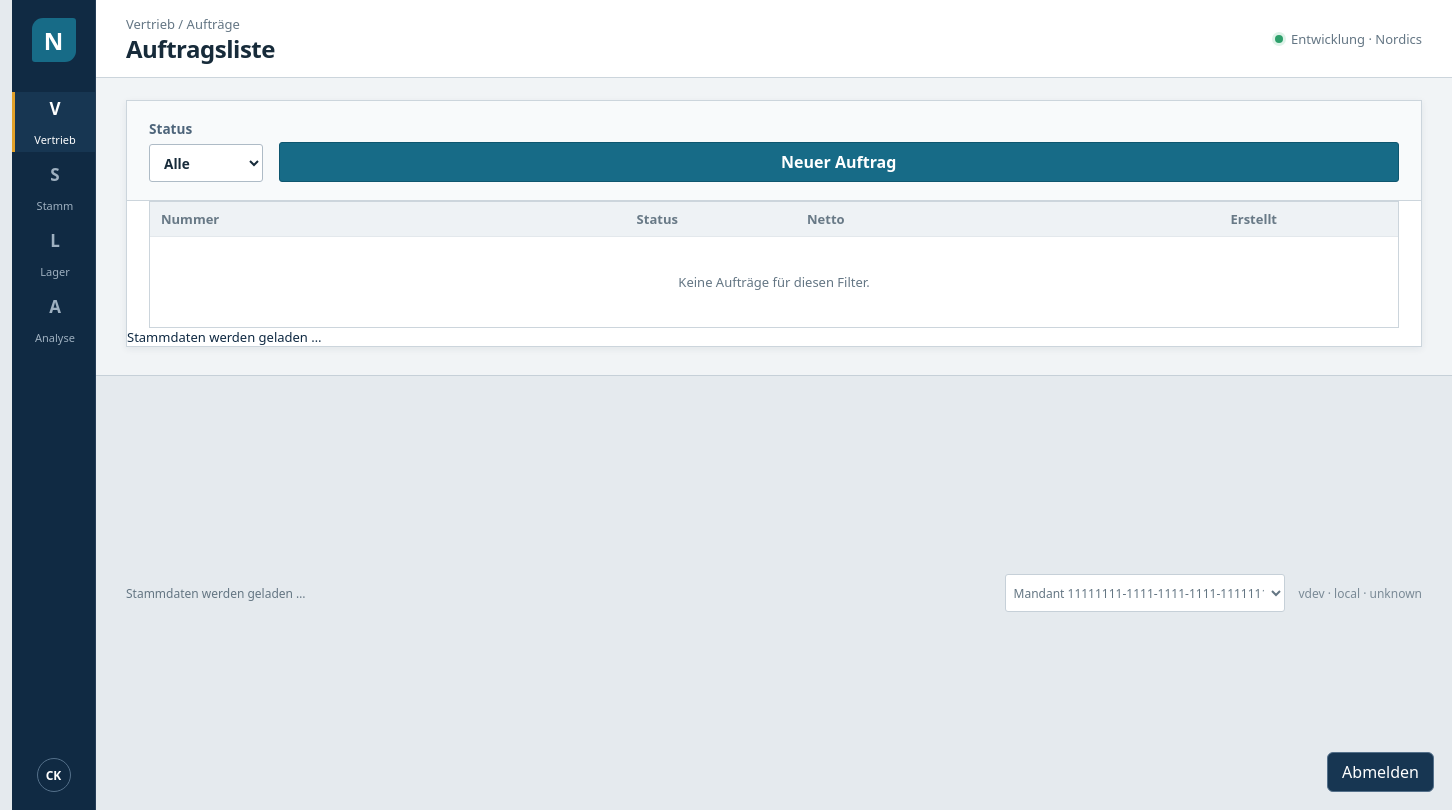
Test: does not reopen the previous Mandant Stamm document after a switch
The image size is (1452, 810).
Expected: the heading "Auftragsliste" is shown, [126,36,275,62]
Step 1. Click the button titled "Stammdaten" → (54, 188), box [12,158,95,218]
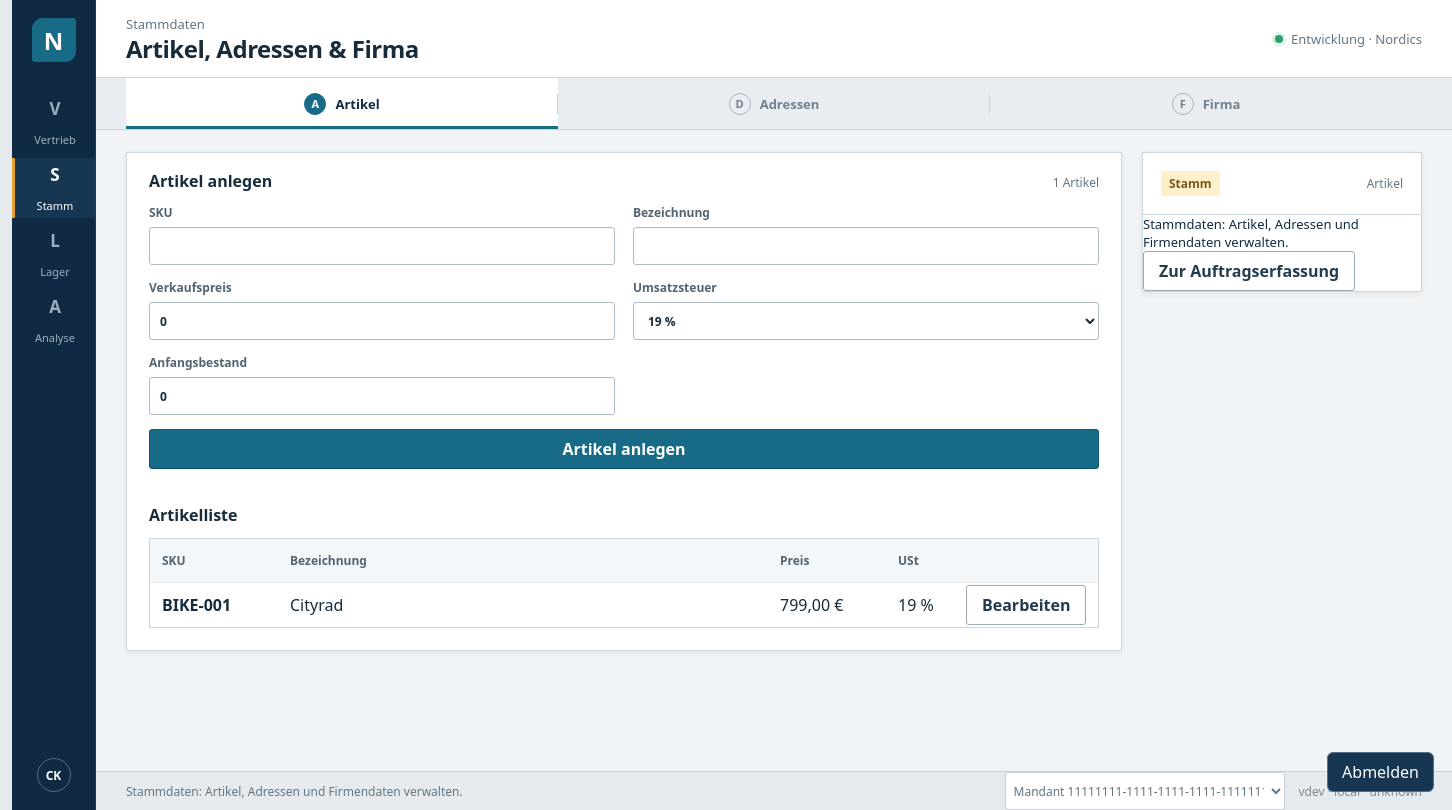
Now the heading "Artikel anlegen" is shown, box [149,170,272,192]
Step 2. Click the button "Bearbeiten" → (1026, 605), box [966,585,1086,625]
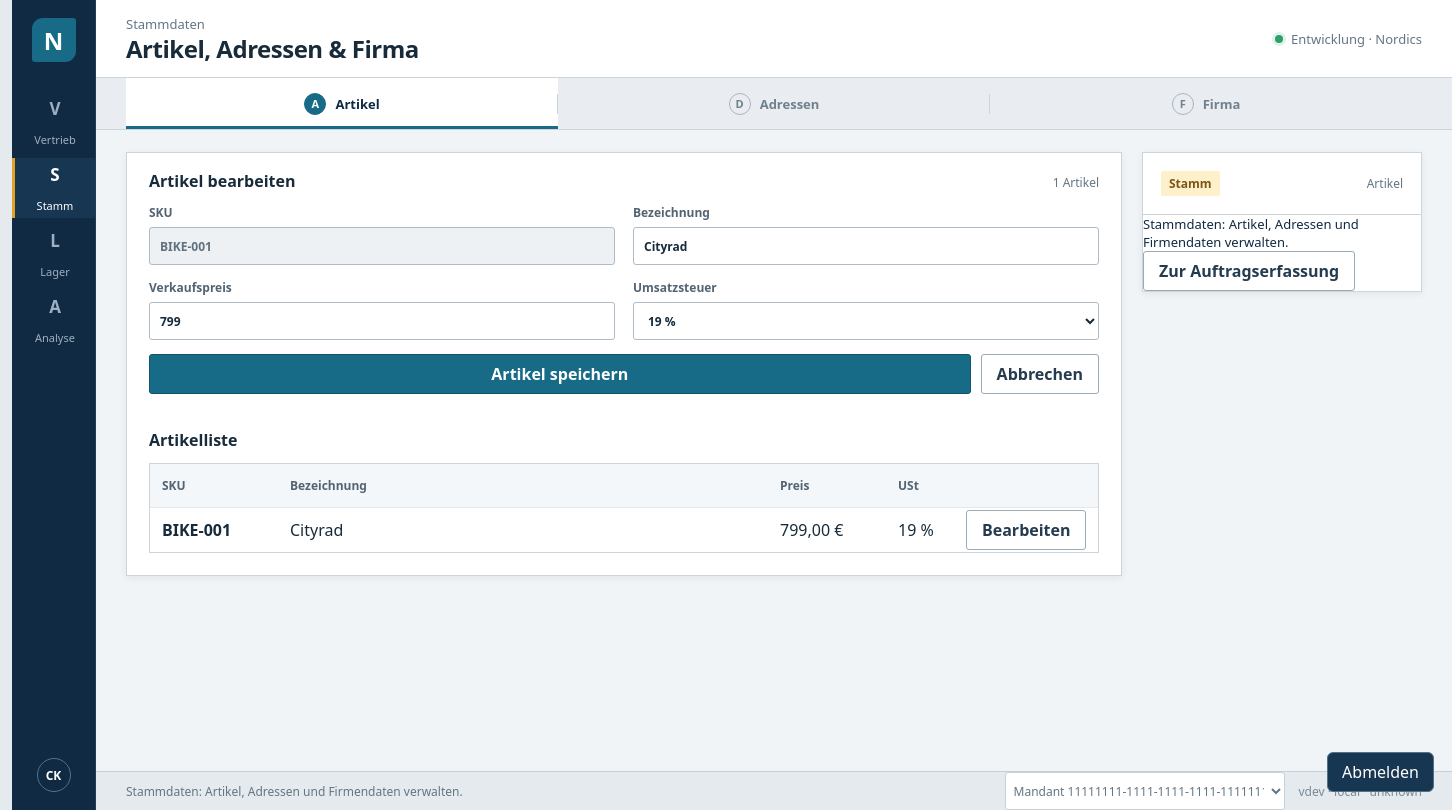
Now the heading "Artikel bearbeiten" is shown, box [149,170,295,192]
Step 3. Click the button titled "Vertrieb" → (54, 122), box [12,92,95,152]
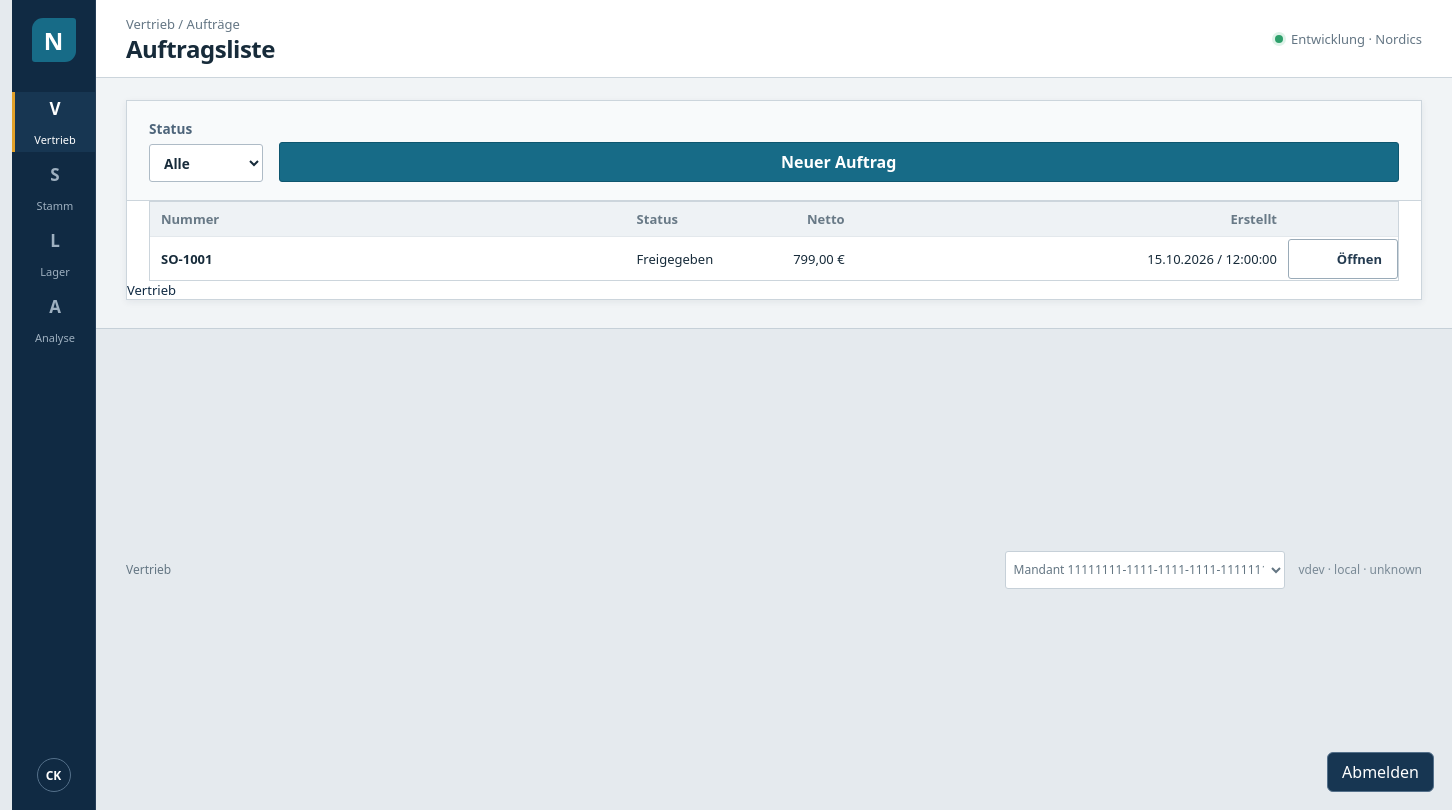
Now the heading "Auftragsliste" is shown, box [126,36,275,62]
Step 4. Select "Mandant 22222222-2222-2222-2222-222222222222" in the dropdown named "Mandant wechseln" → (1144, 570), box [1004,551,1284,589]
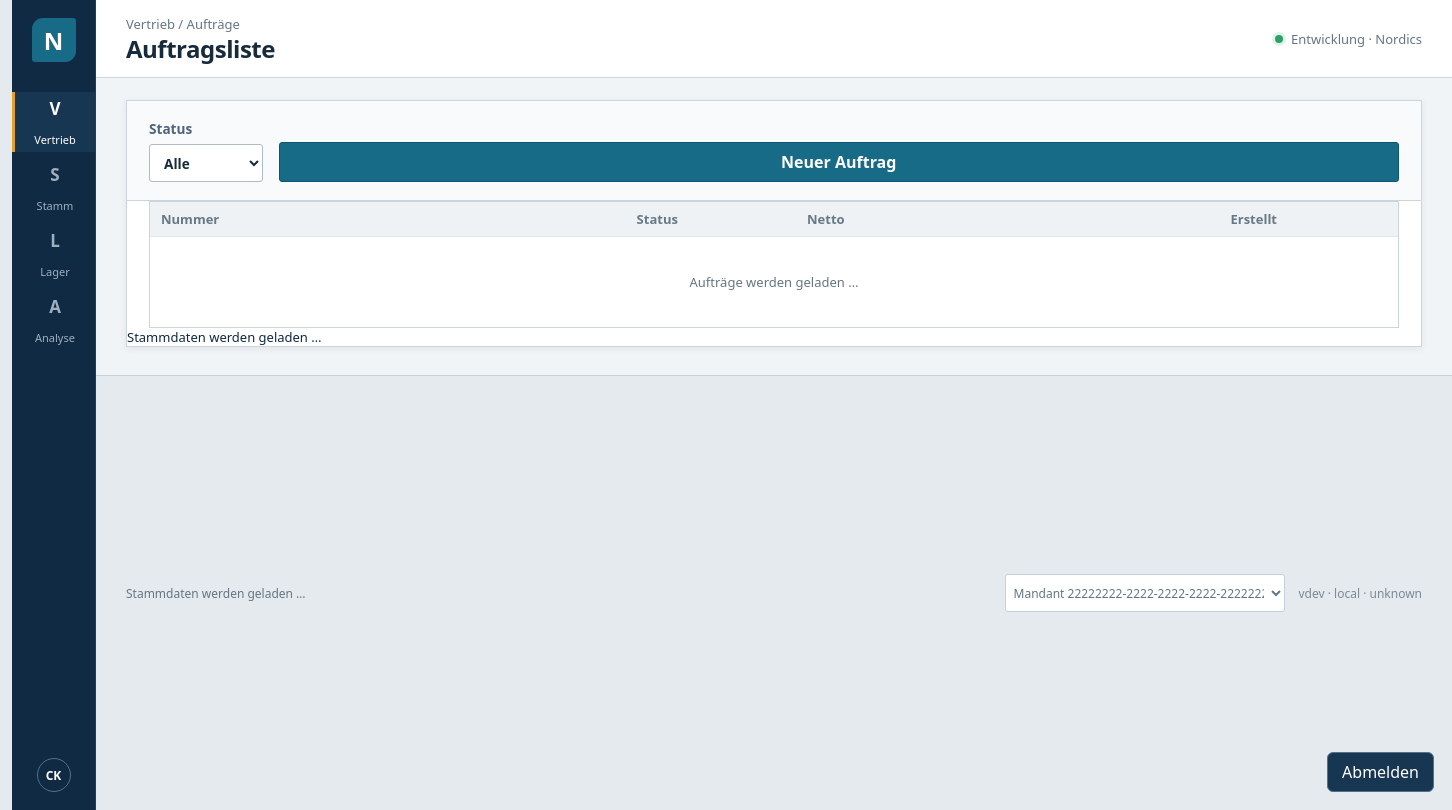
Step 5. Click the button titled "Stammdaten" → (54, 188), box [12,158,95,218]
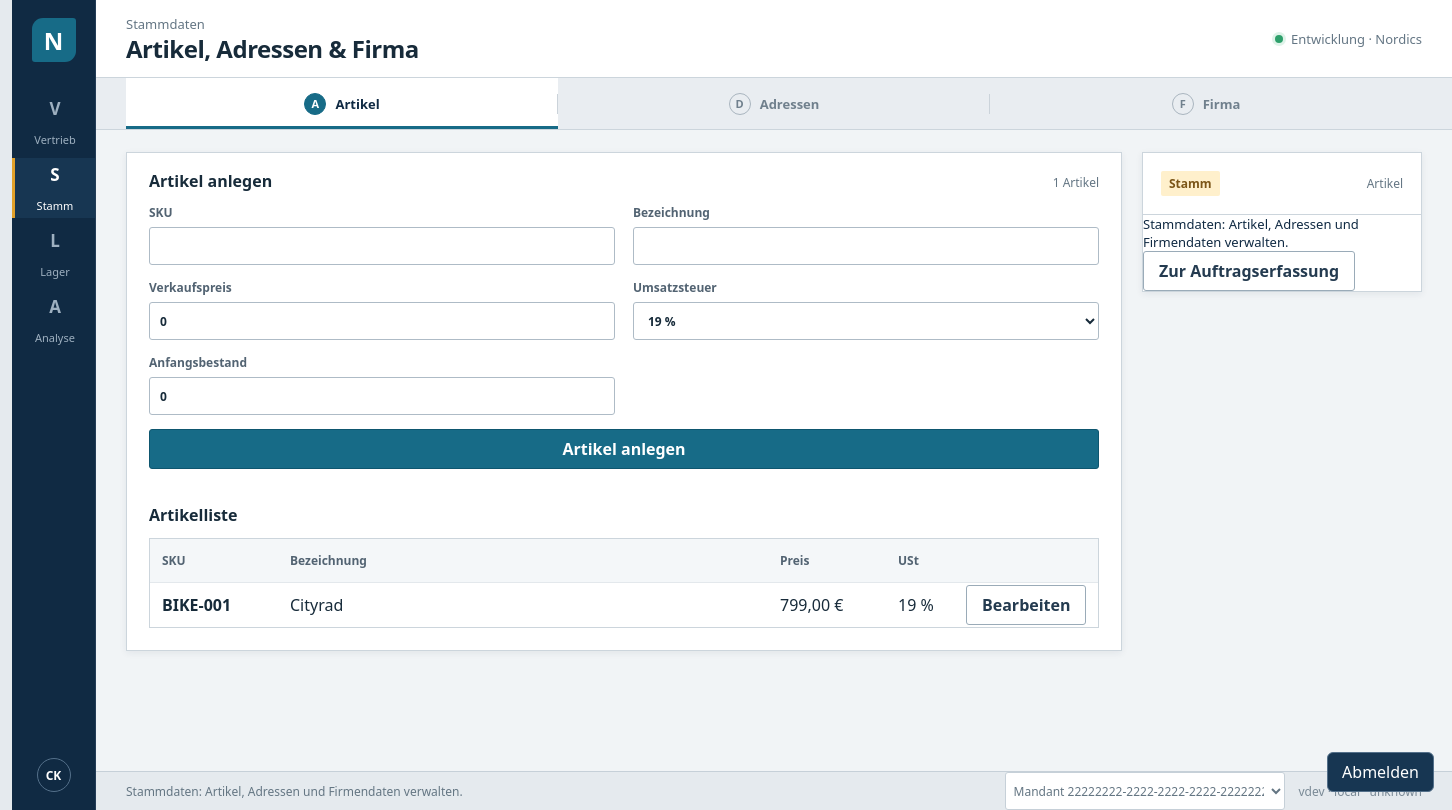
Now the heading "Artikel, Adressen & Firma" is shown, box [126,36,419,62]
